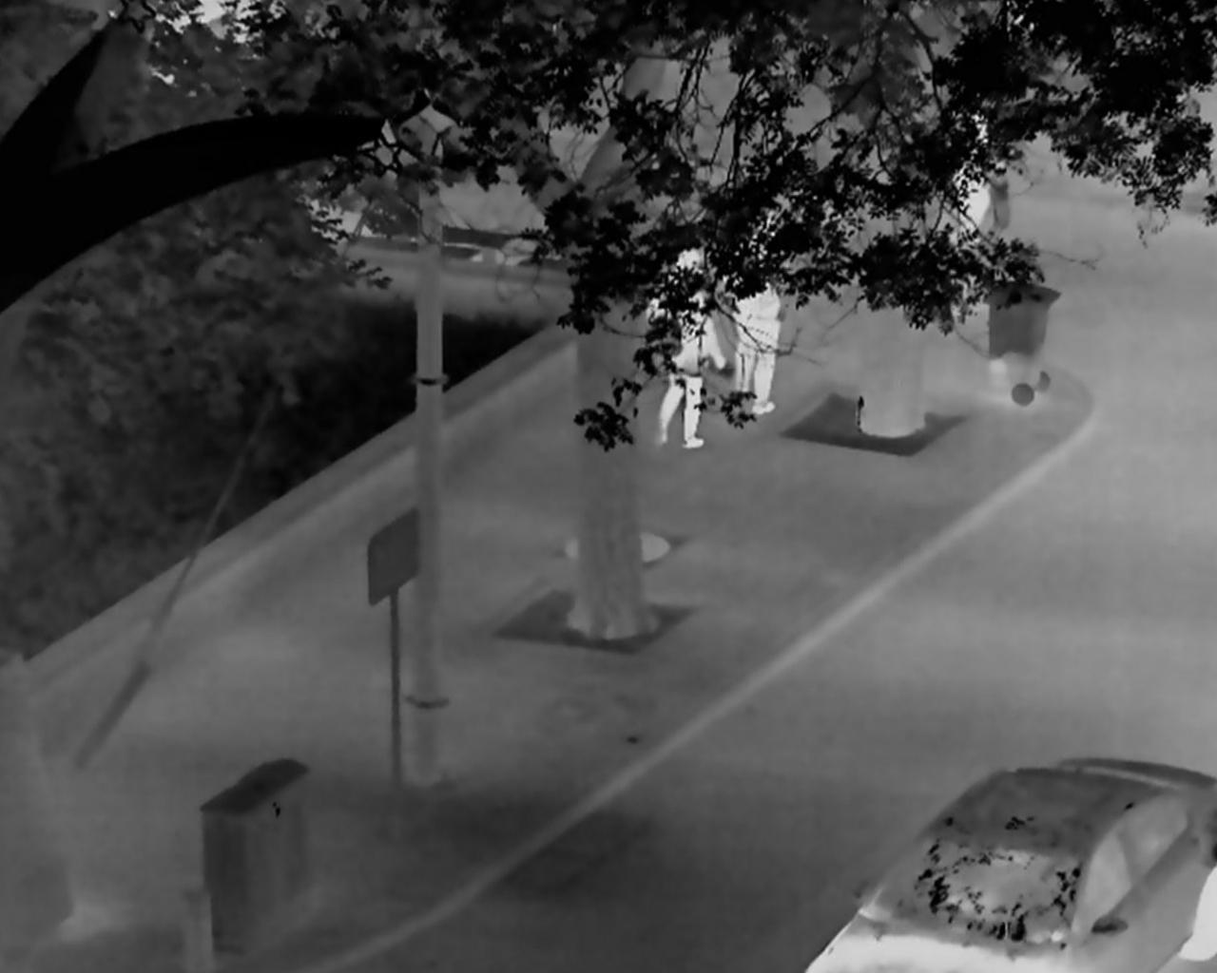person: (646, 247, 725, 449), (725, 246, 780, 416), (950, 106, 994, 243)
